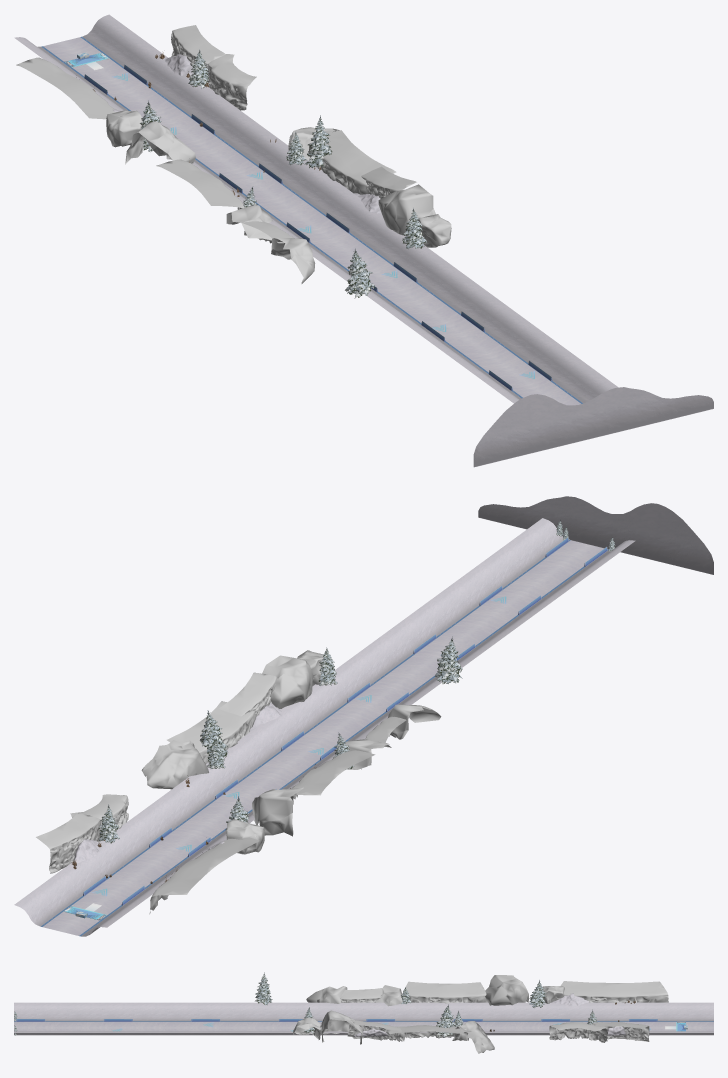
File: Ski Project(1).fbx
3 views of the same model, one above another, from view 1: azimuth 30°, elevation 25°; view 2: azimuth 150°, elevation 25°; view 3: azimuth 270°, elevation 25° (orthographic). The views are drawn at different scales.
Visible parts, largest first — view 1: Snow_Road, Game_track, Rock_Medium_A_01, Vision, Rock_Medium_A_02, Banyan_Tree, Obstacle_A_02, Obstacle_A_01, Snow_Cover_A_01; view 2: Snow_Road, Game_track, Rock_Medium_A_01, Rock_Medium_A_02, Vision, Banyan_Tree, Obstacle_A_01, Obstacle_A_02, Snow_Cover_A_01; view 3: Snow_Road, Rock_Medium_A_01, Game_track, Rock_Medium_A_02, Banyan_Tree, Obstacle_A_01, Snow_Cover_A_01, Obstacle_A_02.
Boxes of the visible parts, x1,y1,x2,y2 form: Snow_Road: (14, 14, 618, 403); Game_track: (43, 37, 580, 405); Rock_Medium_A_01: (16, 25, 416, 243); Vision: (473, 387, 713, 467); Rock_Medium_A_02: (106, 110, 451, 283); Banyan_Tree: (140, 49, 427, 298); Obstacle_A_02: (41, 36, 582, 403); Obstacle_A_01: (84, 64, 552, 390); Snow_Cover_A_01: (112, 54, 381, 213); Snow_Road: (14, 518, 635, 936); Game_track: (42, 540, 603, 935); Rock_Medium_A_01: (36, 672, 406, 914); Rock_Medium_A_02: (141, 650, 441, 854); Vision: (478, 496, 713, 574); Banyan_Tree: (98, 520, 615, 843); Obstacle_A_01: (83, 537, 607, 905); Obstacle_A_02: (41, 540, 608, 936); Snow_Cover_A_01: (74, 702, 281, 863); Snow_Road: (14, 1002, 713, 1035); Rock_Medium_A_01: (340, 981, 668, 1042); Game_track: (14, 1022, 713, 1031); Rock_Medium_A_02: (293, 975, 564, 1053); Banyan_Tree: (14, 972, 597, 1037); Obstacle_A_01: (16, 1019, 657, 1021); Snow_Cover_A_01: (354, 993, 625, 1036); Obstacle_A_02: (14, 1021, 713, 1021).
Size of the model in its own units: 2573 by 665 by 10000.
